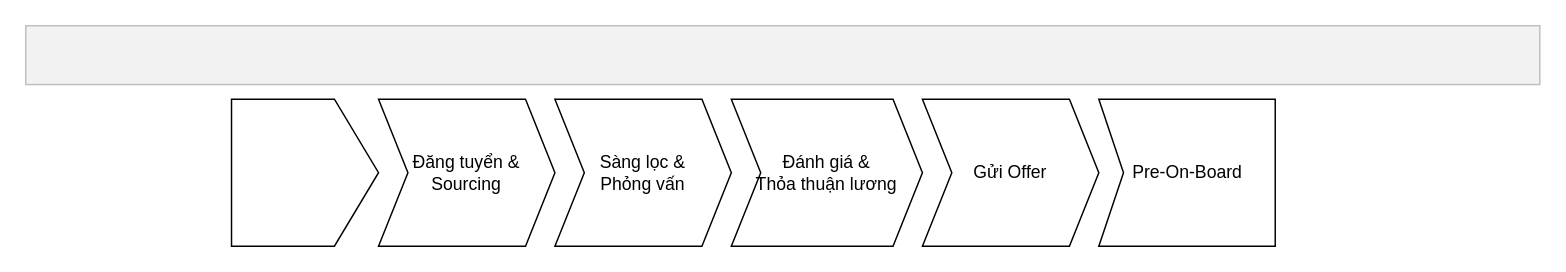
Image size: 1566x272. Some labels were removed from this diagram. The shapes that lost their labels are listed below. From the top down, each one's box as (x1, y1, x2, y2) in pixels, then its label:
(24, 24, 1540, 85): PROCESS PERSPECTIVE – QUY TRÌNH TUYỂN DỤNG NHÂN SỰ
(230, 98, 379, 246): Opening Job Requistion
